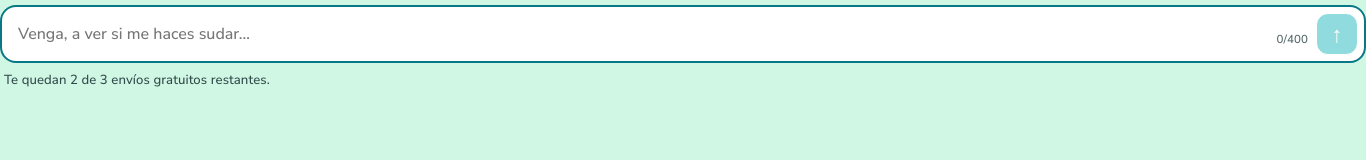
it: RoastInput › submits a trimmed message with cookie credentials and idempotency, then renders quota feedback
Type "  Qué tal  " into the field named "tu insulto" at (638, 34), box [8,13,1268,55]
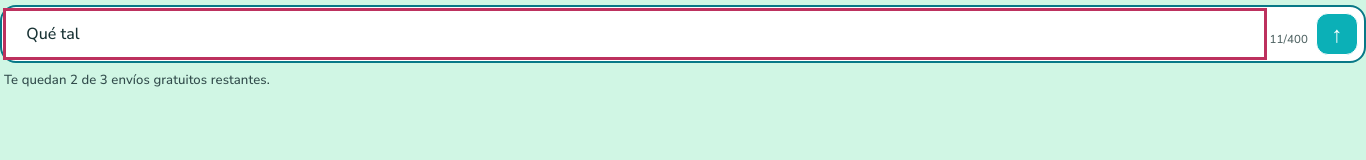
Click the button named "Enviar insulto" at (1337, 34), box [1316,13,1358,55]
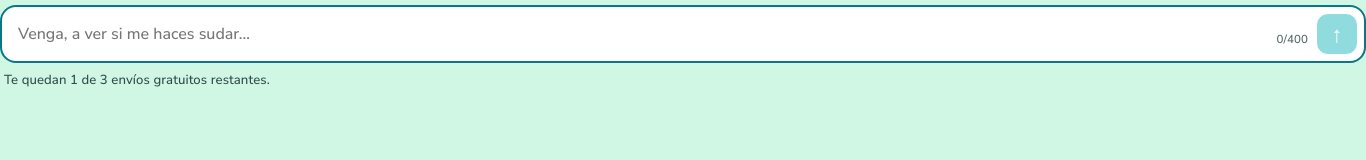
Now the message shows "Te quedan 1 de 3", box [4,71,270,89]
